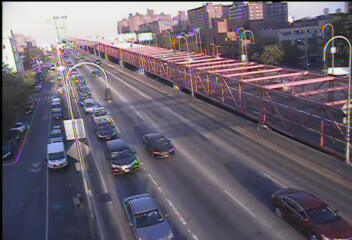neg: (237, 165, 266, 205), (205, 129, 234, 168), (123, 30, 149, 64), (112, 166, 137, 198), (56, 109, 79, 140), (69, 149, 92, 178), (53, 51, 74, 79), (177, 51, 198, 78), (140, 126, 160, 151), (226, 66, 244, 91), (52, 17, 70, 41), (101, 79, 118, 102), (270, 100, 286, 122)
